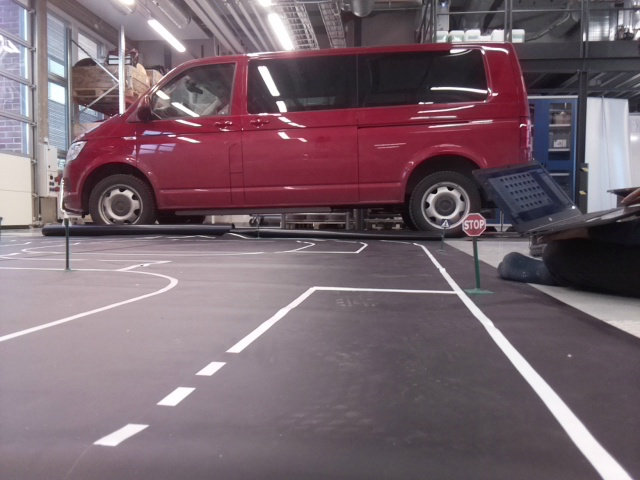Crosswalk: (441, 219, 449, 227)
Stop: (460, 213, 485, 236)
